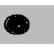correct: (3, 13, 30, 36)
